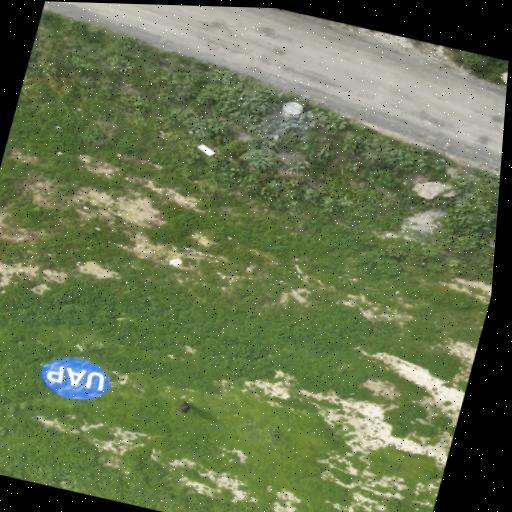person: (177, 403, 190, 412)
uap: (41, 357, 110, 399)
